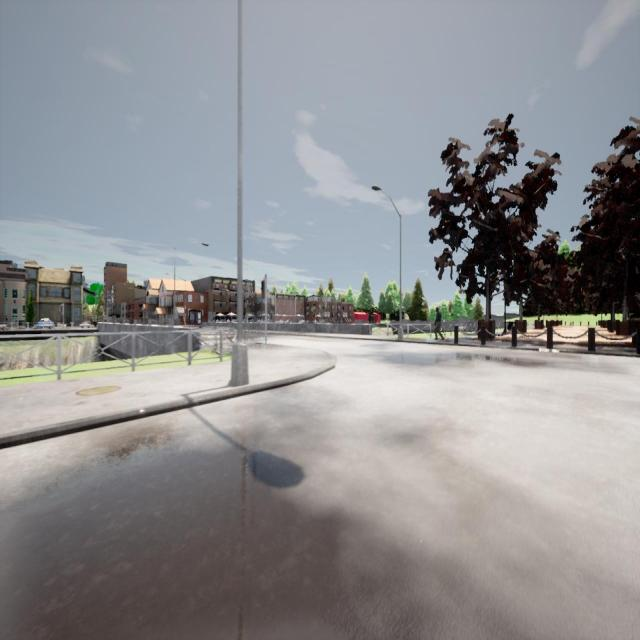Pedestrian: (433, 308, 444, 340)
Vehicle: (35, 318, 55, 329)
traffic_light: (260, 280, 266, 300), (185, 306, 188, 314), (59, 306, 63, 312)
